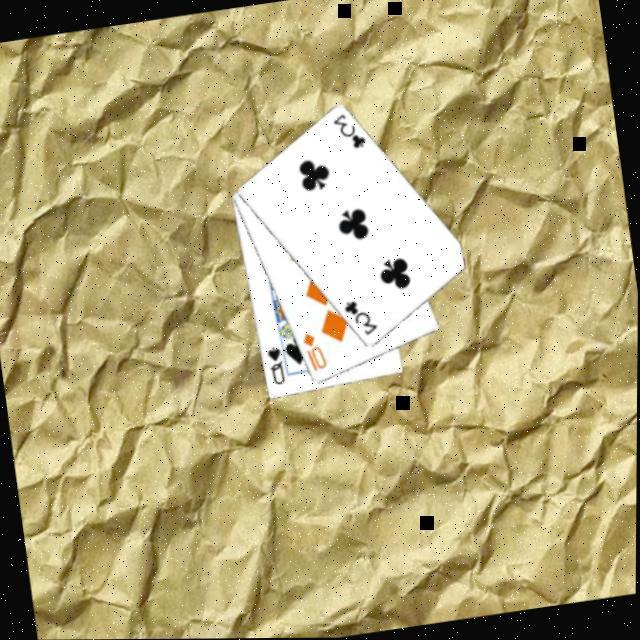10D: (300, 326, 332, 374)
3C: (340, 293, 382, 340), (329, 107, 370, 154)
QS: (264, 341, 290, 387)
